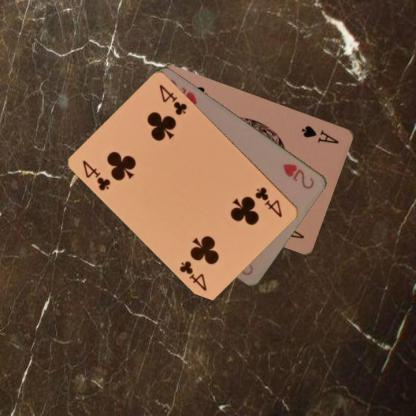2h: (280, 161, 316, 190)
4c: (80, 158, 113, 192), (252, 184, 284, 219)
As: (300, 123, 340, 145)
